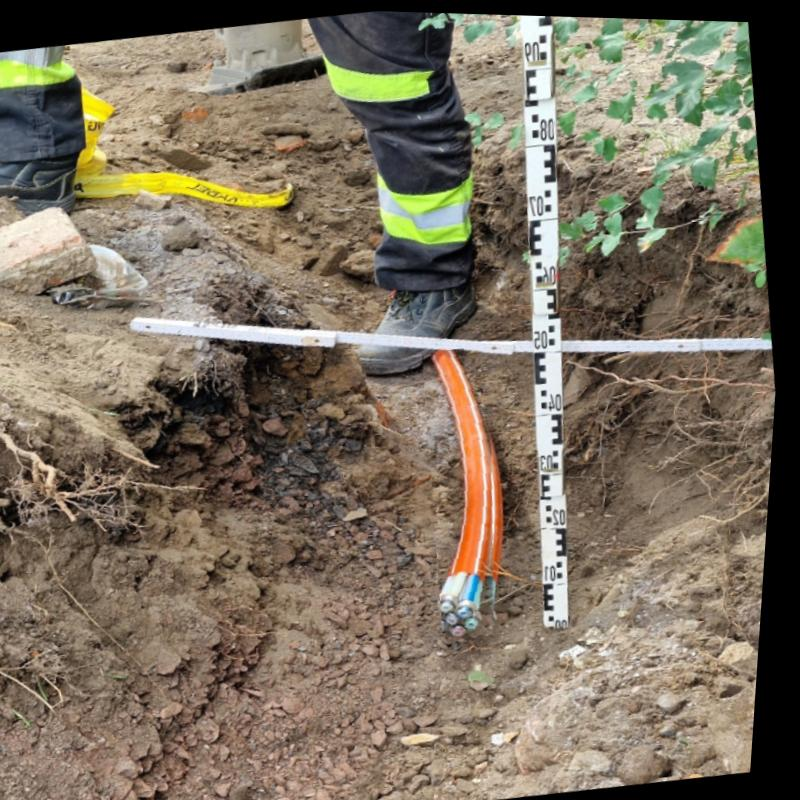Orang-Speednetrohrchen: (434, 348, 500, 633)
